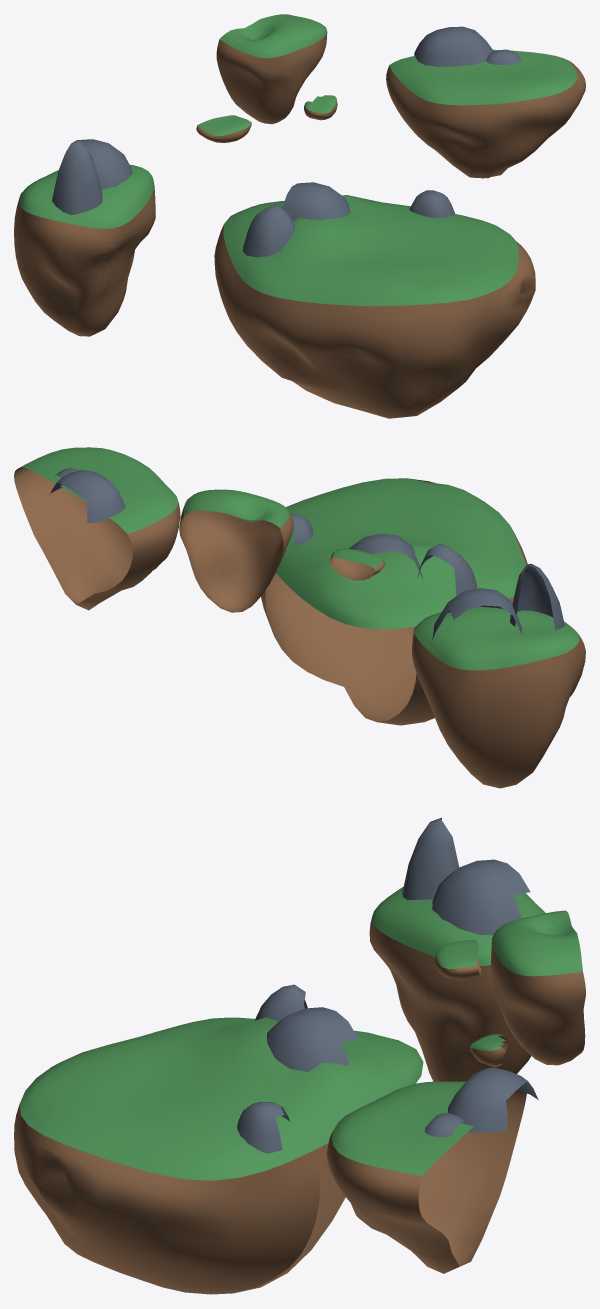
Rendered from floating_no_stone.fbx.
3 views of the same model, one above another, from view 1: azimuth 30°, elevation 25°; view 2: azimuth 150°, elevation 25°; view 3: azimuth 270°, elevation 25° (orthographic). The views are drawn at different scales.
Parts seen in each view (by area): view 1: Cube.001; view 2: Cube.001; view 3: Cube.001.
Boxes of the visible parts, <box> form: Cube.001: <box>14,14,585,418</box>; Cube.001: <box>14,447,585,788</box>; Cube.001: <box>14,817,585,1294</box>.
Size of the model in its own units: 4639 by 2284 by 3193.
